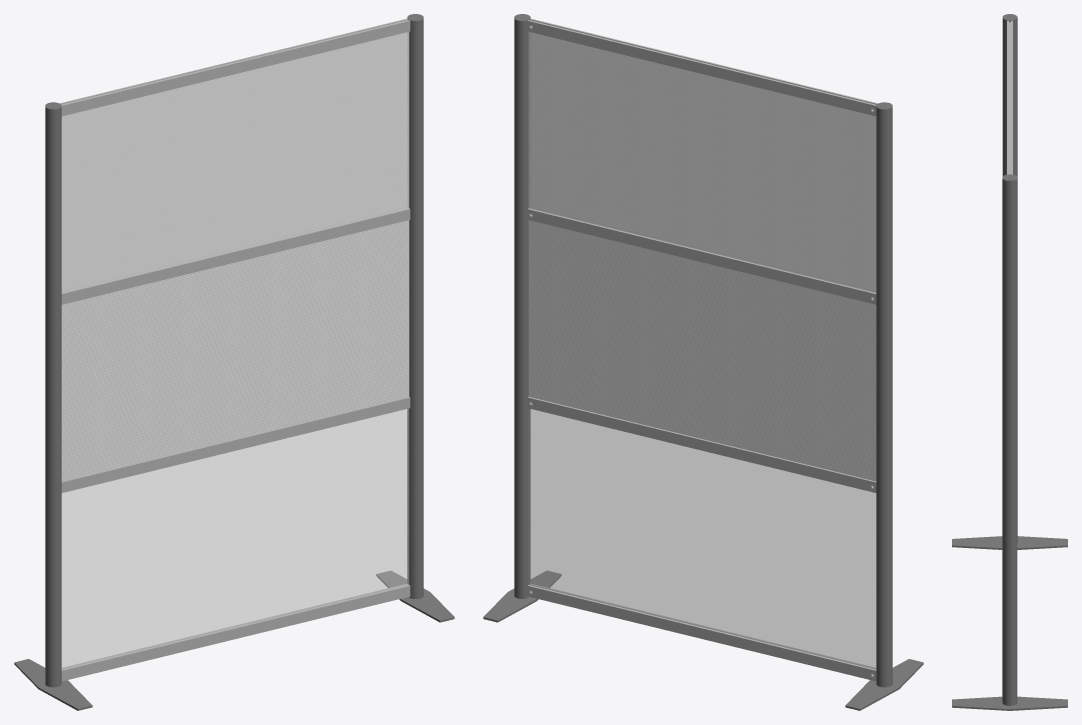
Rendered from room_partition_model_5175-5.glb.
3 views of the same model, side by side, from view 1: azimuth 30°, elevation 25°; view 2: azimuth 150°, elevation 25°; view 3: azimuth 270°, elevation 25° (orthographic). The views are drawn at different scales.
Parts seen in each view (by area): view 1: Object_4, Object_3, Object_2, Object_9, Object_10; view 2: Object_4, Object_3, Object_2, Object_9, Object_10; view 3: Object_9, Object_10.
Boxes of the visible parts, x1,y1,x2,y2 form: Object_4: (61, 220, 409, 481); Object_3: (61, 32, 409, 292); Object_2: (61, 408, 409, 669); Object_9: (14, 14, 454, 710); Object_10: (60, 18, 410, 681); Object_4: (528, 220, 876, 481); Object_3: (528, 32, 876, 292); Object_2: (528, 408, 876, 669); Object_9: (483, 14, 923, 710); Object_10: (527, 18, 877, 681); Object_9: (952, 14, 1067, 710); Object_10: (1007, 20, 1012, 174).
Bounding box in the file's own units: 135 × 191 × 38.12.
Materials: 10 (3 with a texture image).
